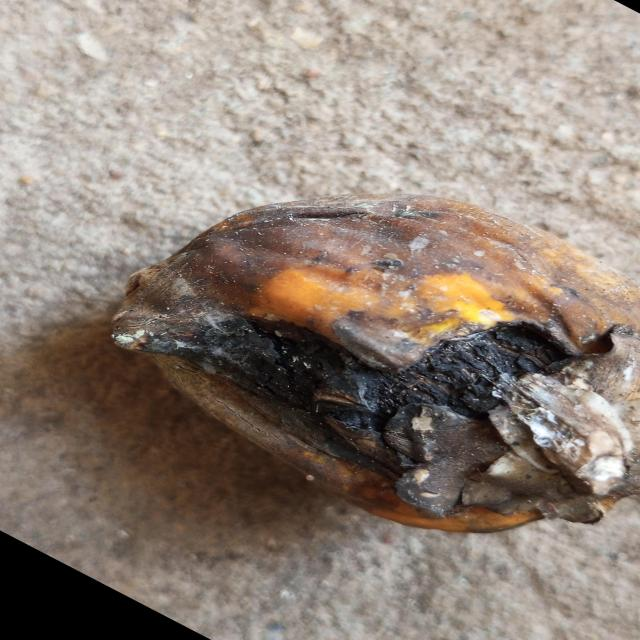damaged: (109, 195, 640, 536)
